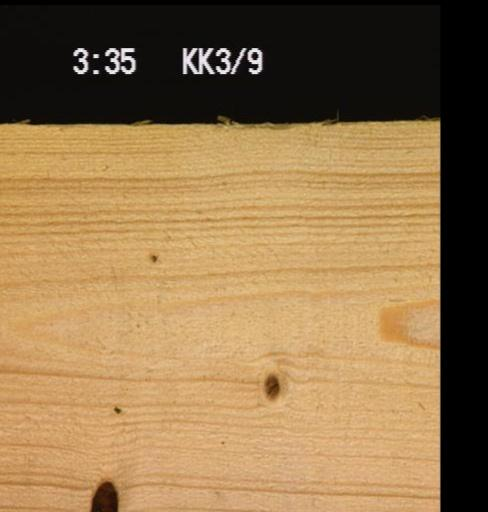small_knot: (146, 251, 159, 263)
sound_knot: (259, 371, 281, 401)
